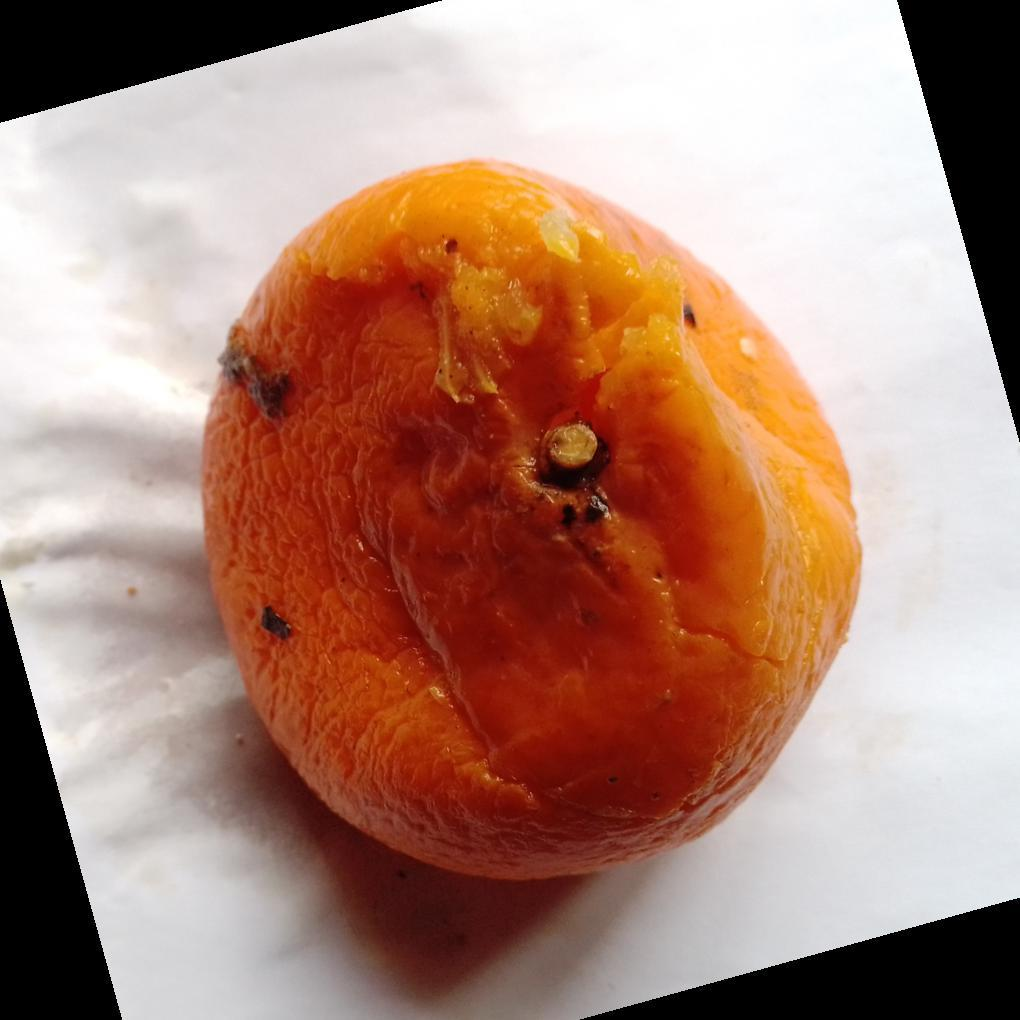FreshOrange: (198, 159, 864, 887)
